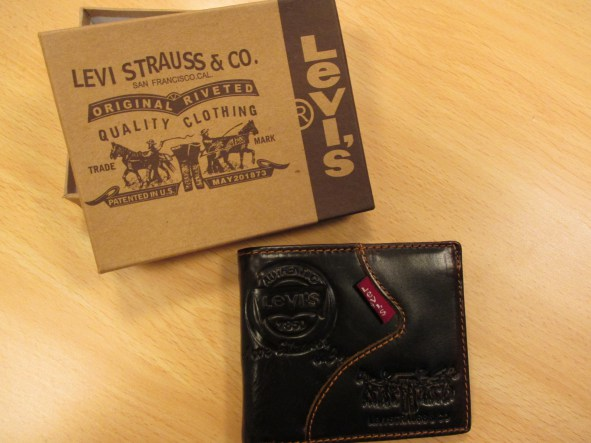monedero: (237, 238, 472, 443)
